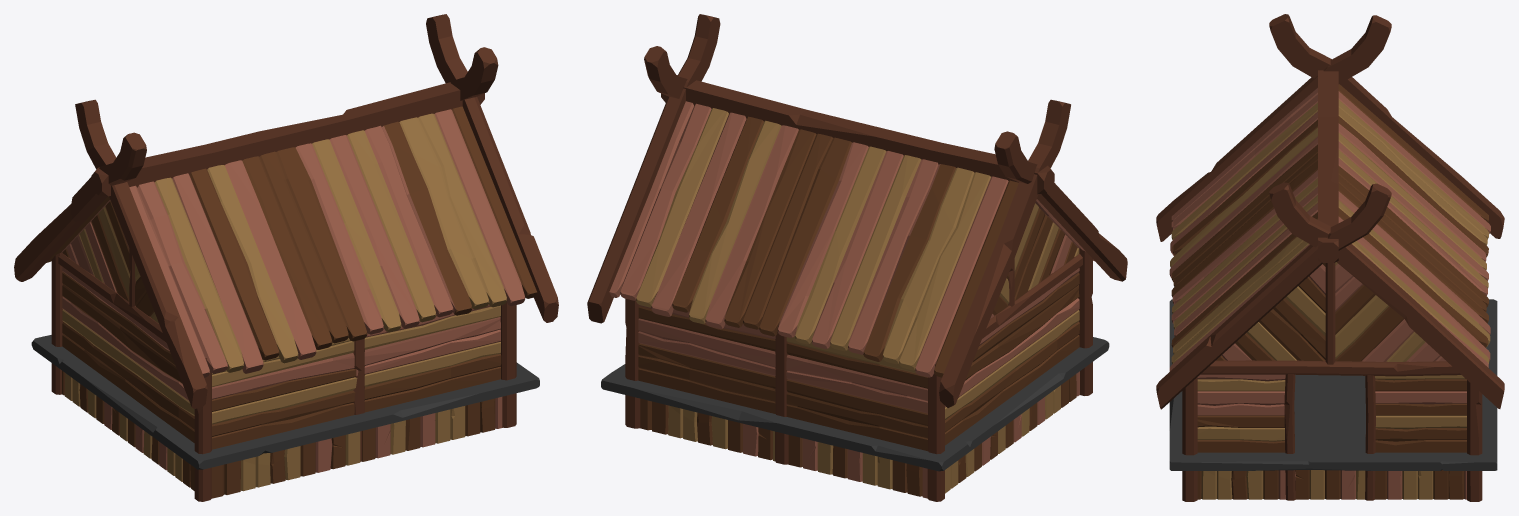
File: Building_5.fbx
3 renders of one model, left to right at view 1: azimuth 30°, elevation 25°; view 2: azimuth 150°, elevation 25°; view 3: azimuth 270°, elevation 25°, orthographic. The views are drawn at different scales.
Visible parts, largest first — view 1: Building_4; view 2: Building_4; view 3: Building_4.
Part boxes in pixels (bbox=[...]): Building_4: bbox=[14, 14, 558, 501]; Building_4: bbox=[587, 14, 1127, 501]; Building_4: bbox=[1156, 14, 1504, 501].
Size of the model in its own units: 8.71 by 7.26 by 7.01.
